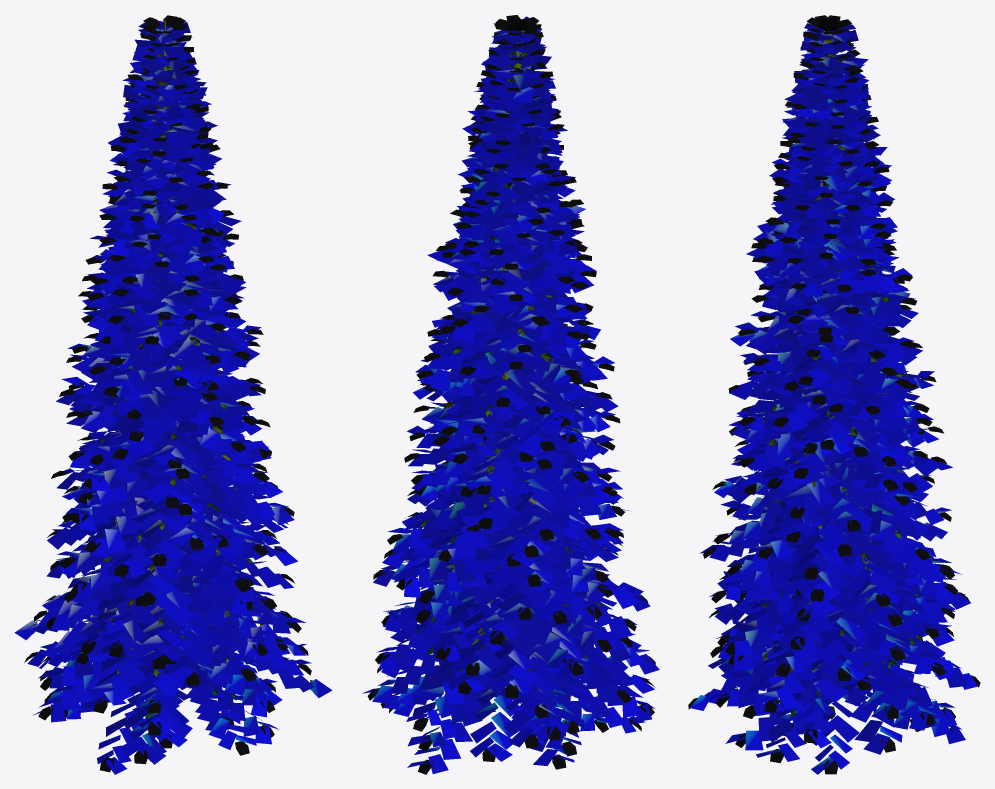
The model's file is tree_spruce_6.glb.
The picture shows the model from 3 angles, left to right: view 1: azimuth 30°, elevation 25°; view 2: azimuth 150°, elevation 25°; view 3: azimuth 270°, elevation 25°; orthographic projection.
Parts seen in each view (by area): view 1: lod1_spruce_6; view 2: lod1_spruce_6; view 3: lod1_spruce_6.
Part boxes in pixels (x1,y1,x2,y2): lod1_spruce_6: [14, 15, 332, 774]; lod1_spruce_6: [362, 15, 659, 774]; lod1_spruce_6: [688, 15, 980, 774].
Bounding box in the file's own units: 10.62 × 26.91 × 10.1.
